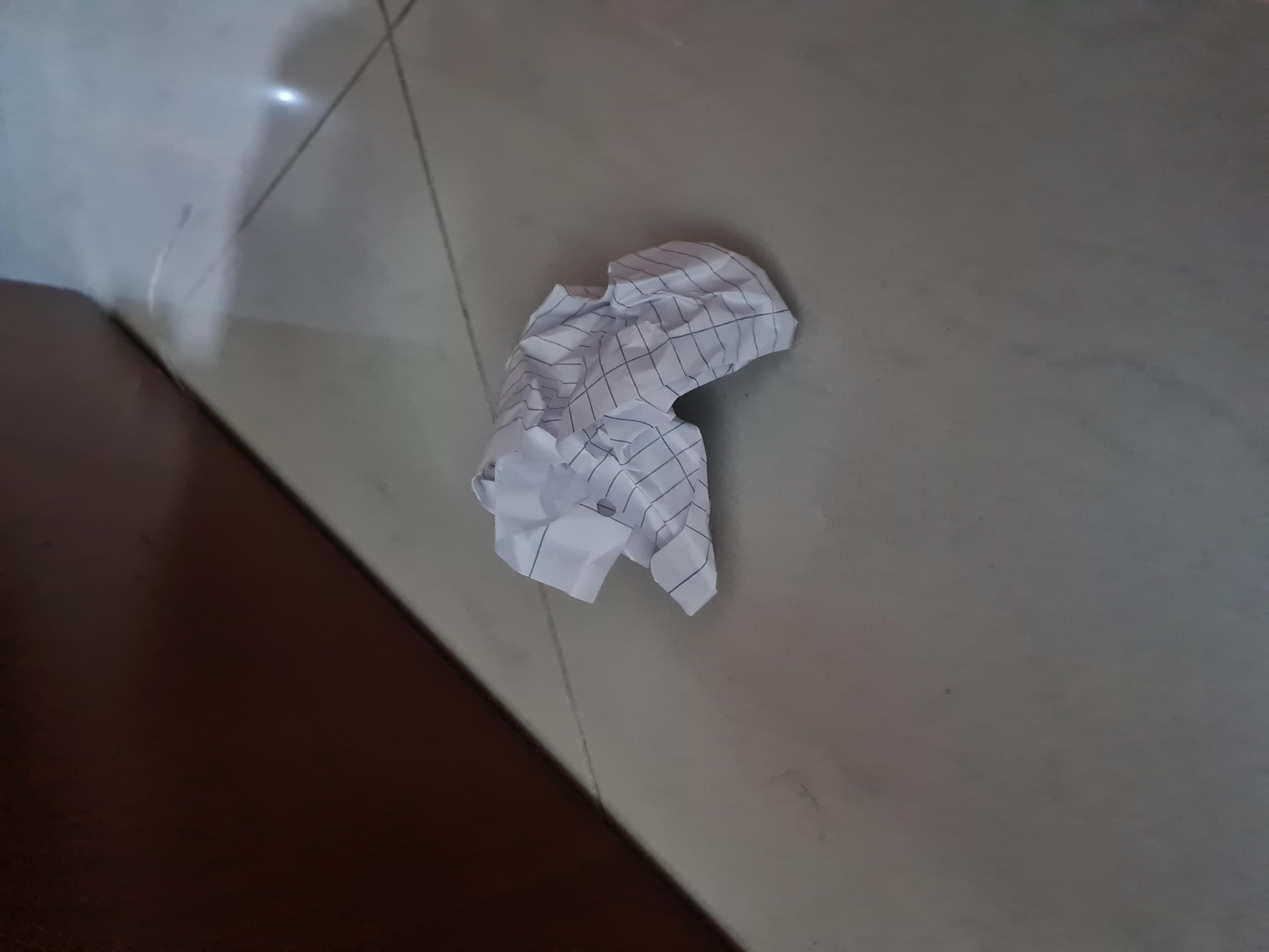paper: (454, 366, 971, 598)
